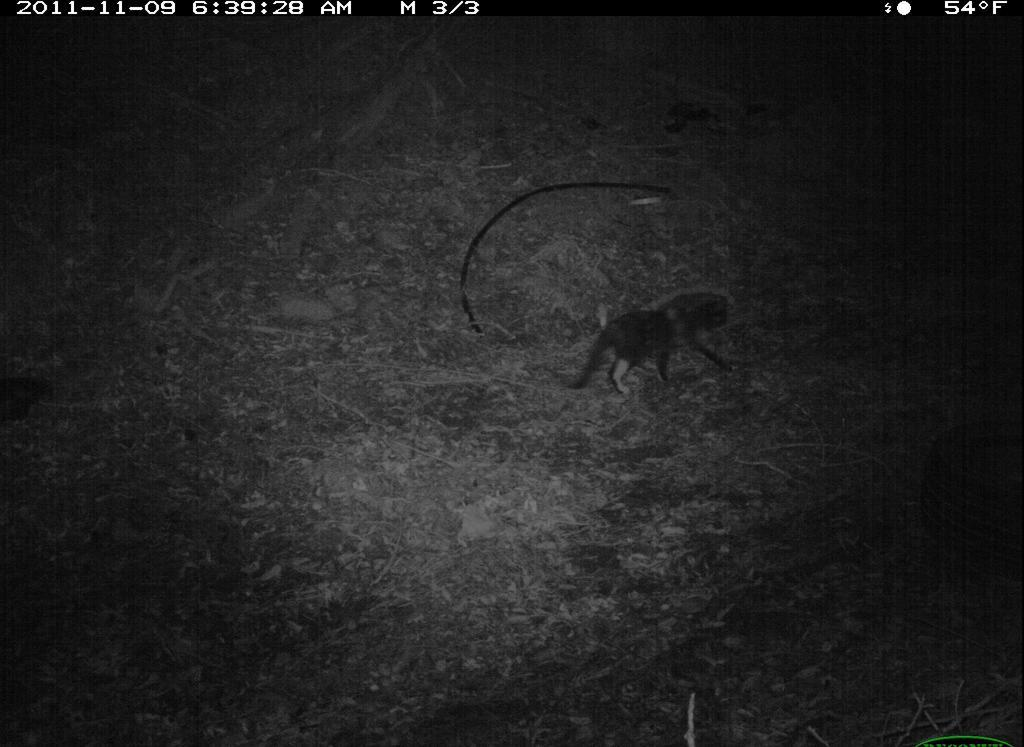cat: (565, 281, 743, 399)
